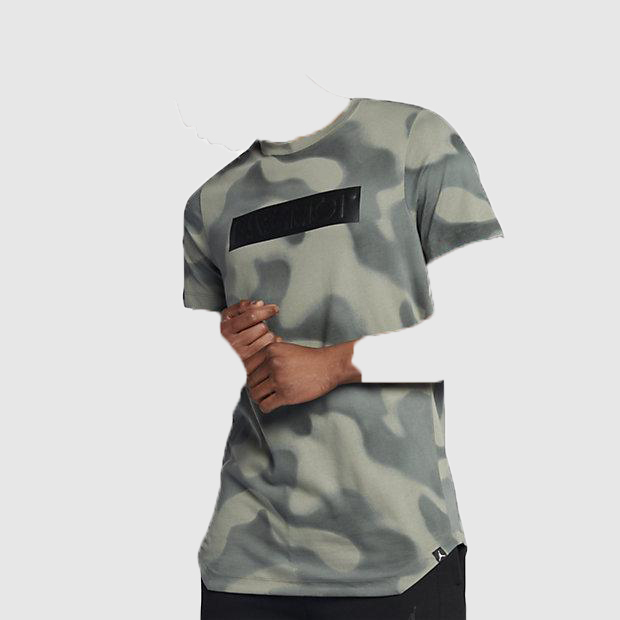teeshirt: (172, 95, 508, 600)
